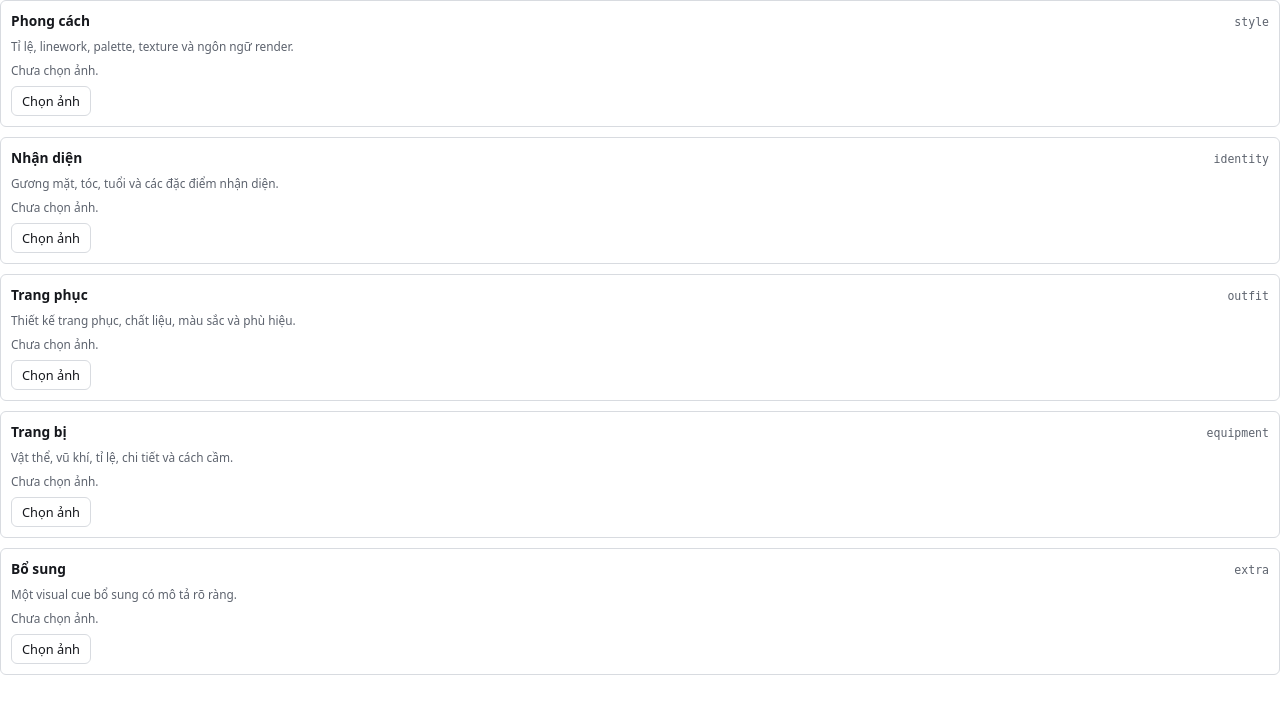
Test: a reference whose file has gone (spec section 4.2) › reports a picker the main process refused
What coordinates should you click on to do the following:
click the button "Chọn ảnh" below "Phong cách"
I would click on:
 (51, 101)
Its box is [11,86,91,116].
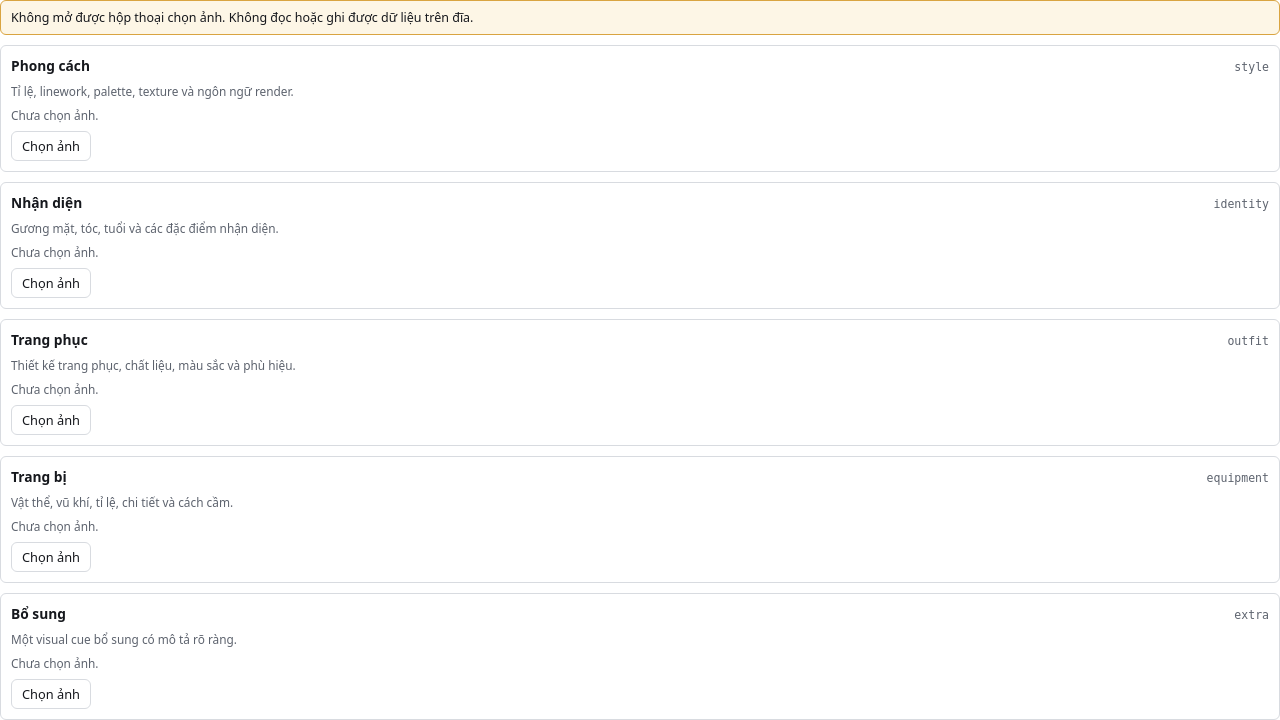
Check: the message shows "Không đọc hoặc ghi được dữ liệu trên đĩa.", box [229,9,473,26]
